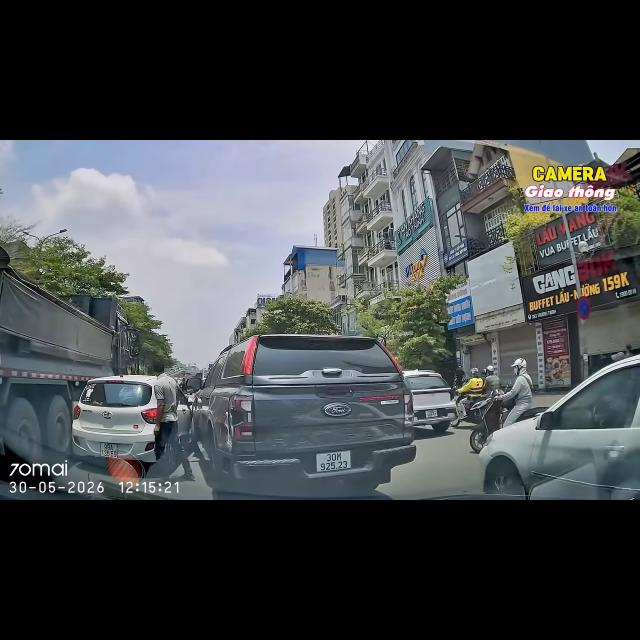car: (194, 335, 415, 490), (480, 356, 639, 499), (72, 375, 157, 463), (404, 370, 455, 432)
motorcycle: (470, 390, 511, 453), (451, 395, 490, 427), (451, 395, 488, 427)
truck: (0, 245, 139, 463)
